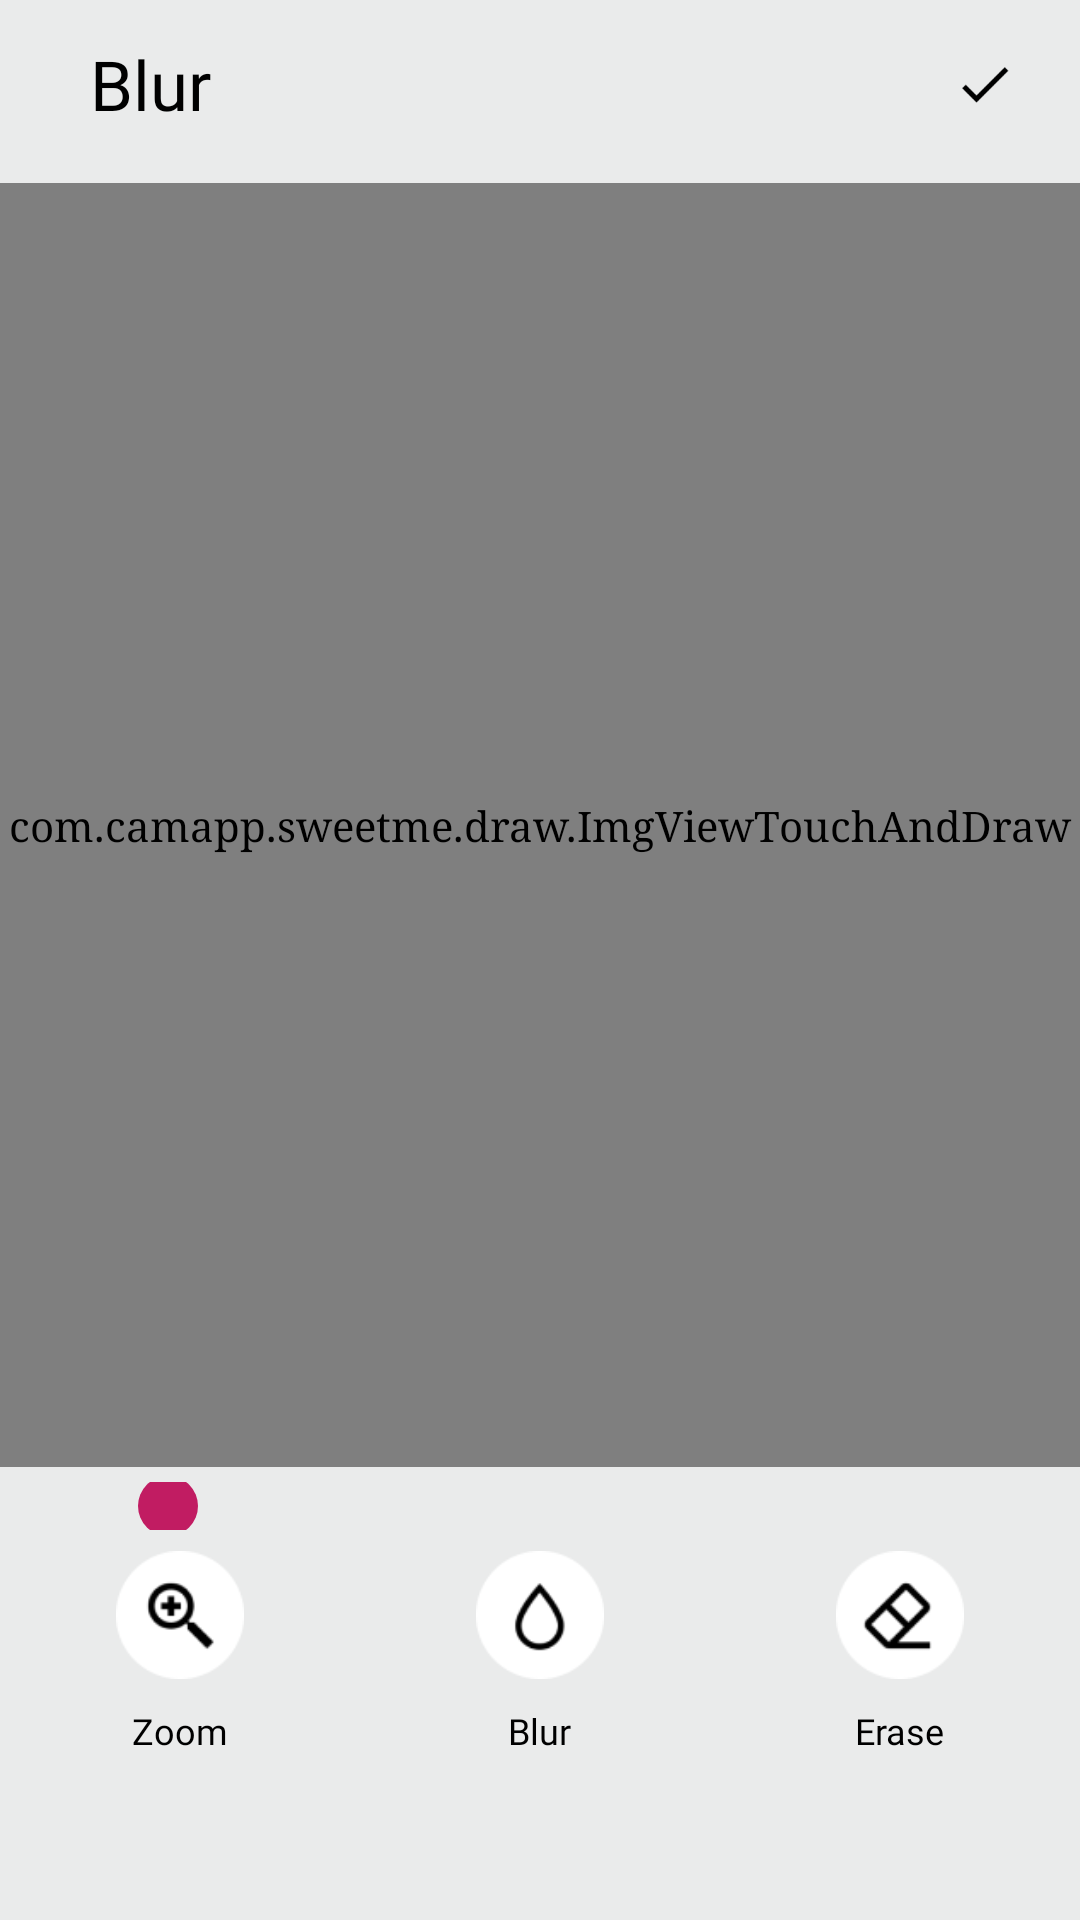

Where to tap for icons on this 1080*1920 app screen, as point (x, y):
done: point (985, 85)
